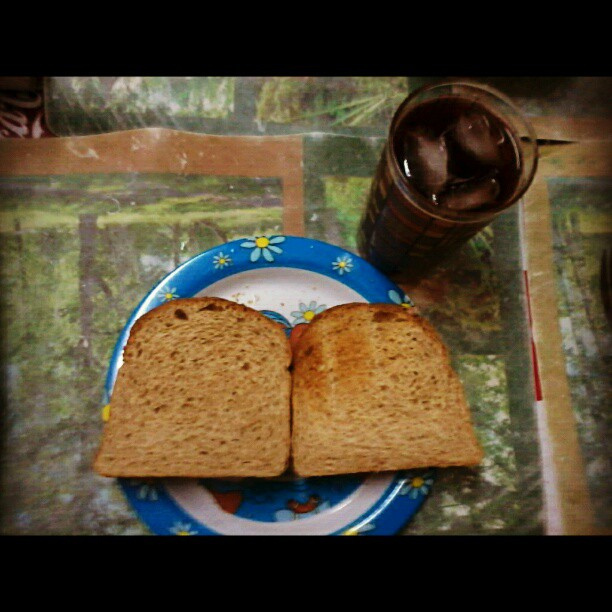slice of bread: (287, 310, 473, 471), (125, 296, 284, 473)
